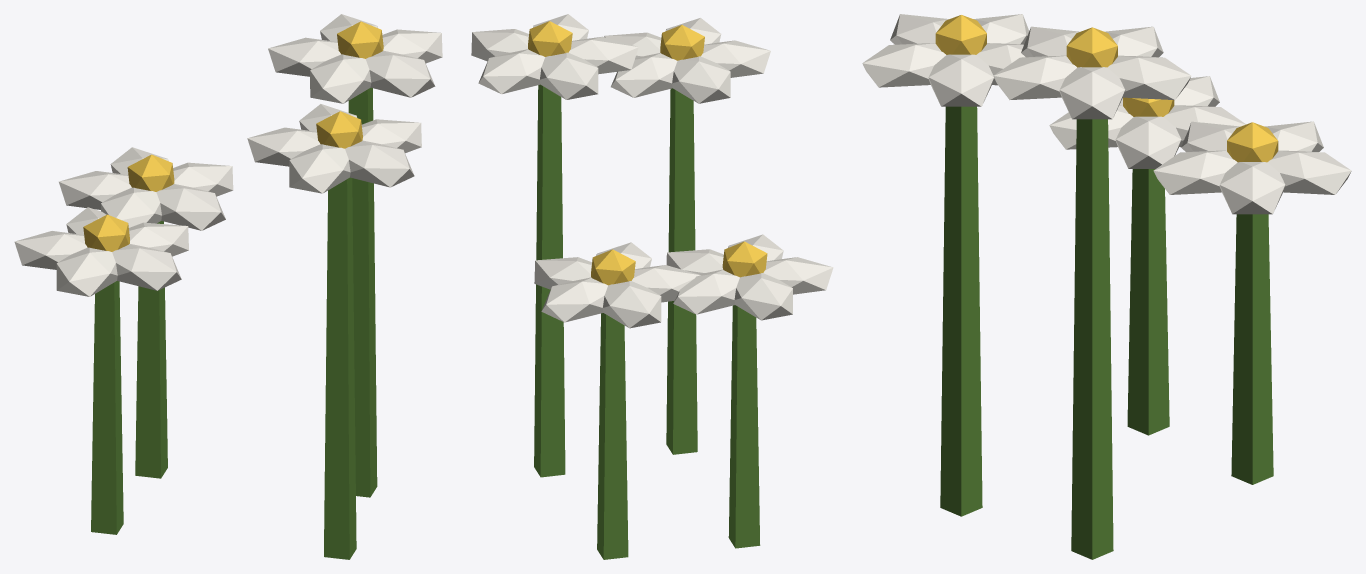
File: wildflower_0.glb
3 views of the same model, side by side, from view 1: azimuth 30°, elevation 25°; view 2: azimuth 150°, elevation 25°; view 3: azimuth 270°, elevation 25° (orthographic). The views are drawn at different scales.
Parts seen in each view (by area): view 1: wildflower_0; view 2: wildflower_0; view 3: wildflower_0.
Part boxes in pixels (x1,y1,x2,y2): wildflower_0: [14, 14, 442, 559]; wildflower_0: [471, 14, 833, 559]; wildflower_0: [862, 14, 1351, 559].
Bounding box in the file's own units: 0.1613 × 0.1917 × 0.1624.
